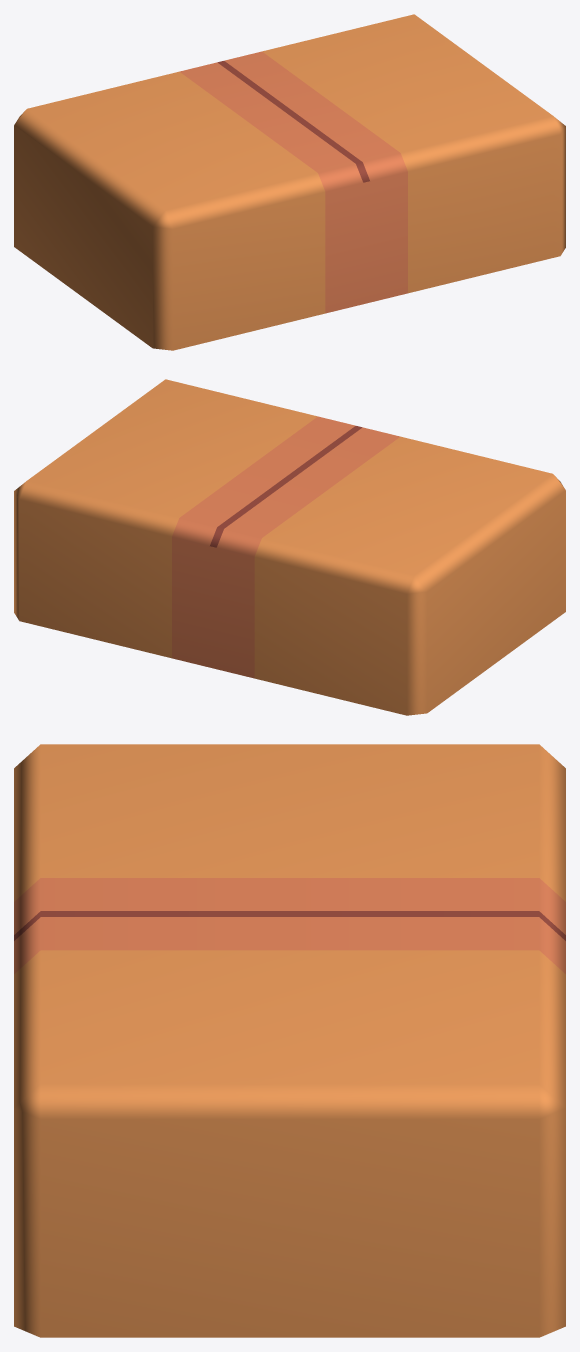
The model's file is Map02_Decor_Thunggiay_04.fbx.
3 renders of one model, top to bottom at view 1: azimuth 30°, elevation 25°; view 2: azimuth 150°, elevation 25°; view 3: azimuth 270°, elevation 25°, orthographic. The views are drawn at different scales.
Parts seen in each view (by area): view 1: Map02_Decor; view 2: Map02_Decor; view 3: Map02_Decor.
Part boxes in pixels (bbox=[...]): Map02_Decor: bbox=[14, 14, 565, 350]; Map02_Decor: bbox=[14, 379, 565, 715]; Map02_Decor: bbox=[14, 744, 565, 1337].
Bounding box in the file's own units: 262 × 81.87 × 169.
